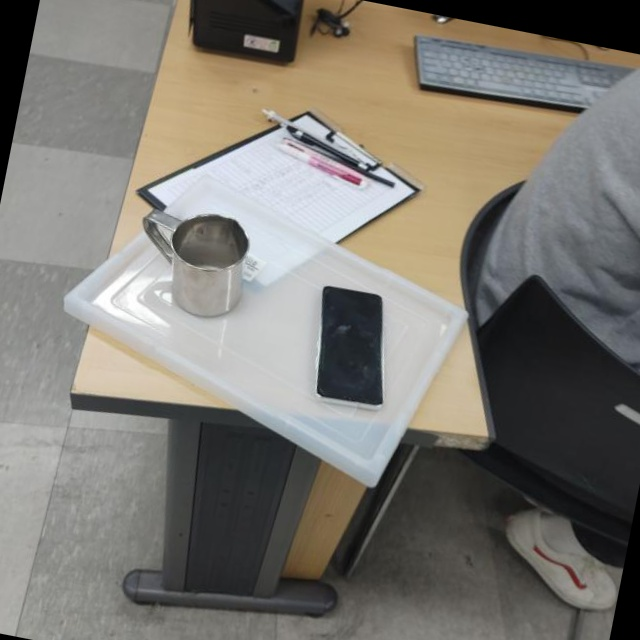cup: (126, 198, 258, 326)
phone: (301, 282, 407, 415)
